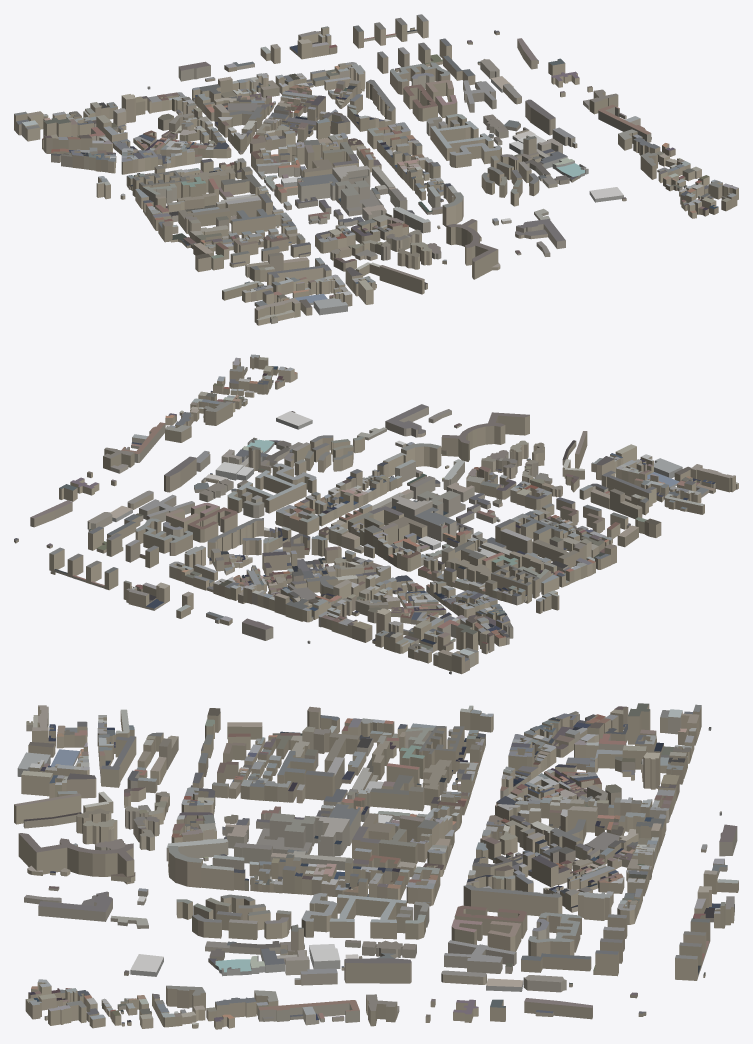
The picture shows the model from 3 angles, top to bottom: view 1: azimuth 30°, elevation 25°; view 2: azimuth 150°, elevation 25°; view 3: azimuth 270°, elevation 25°; orthographic projection. The views are drawn at different scales.
Parts seen in each view (by area): view 1: tuile; view 2: tuile; view 3: tuile.
Boxes of the visible parts, x1,y1,x2,y2 form: tuile: [14, 14, 738, 325]; tuile: [14, 354, 738, 674]; tuile: [14, 703, 738, 1029].
Size of the model in its own units: 1043 by 59.85 by 1031.
